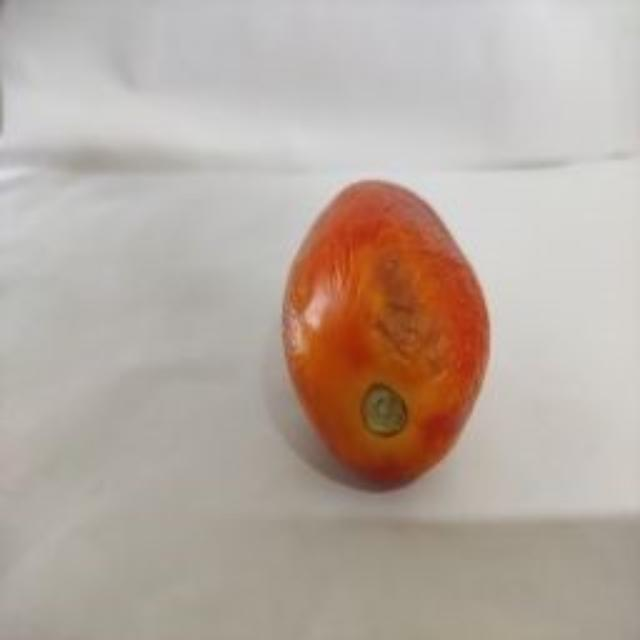defect: (272, 177, 497, 495)
